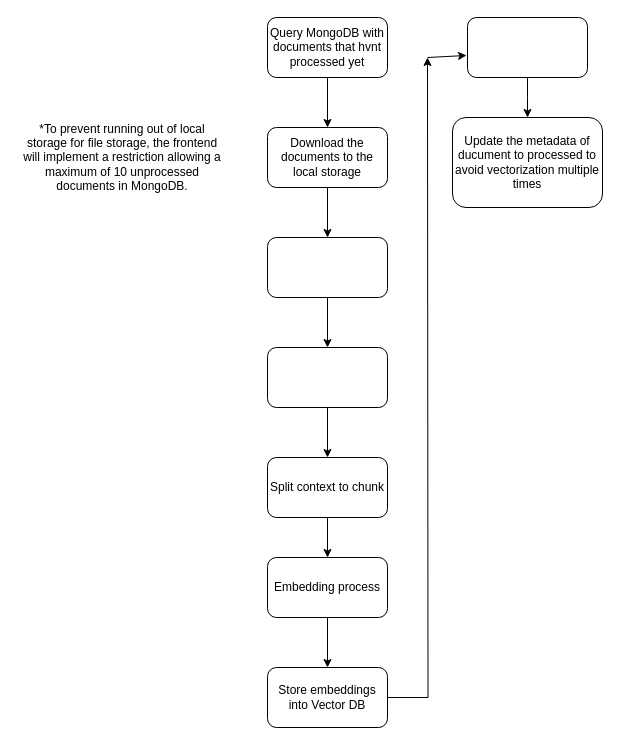
Some shapes in this 620 by 745 pixel diagram are drawn without their labels. Each missing label, with the box of its shape:
Delete documents in local storage: (466, 16, 588, 78)
Identify the document type: (266, 236, 388, 298)
Load doucments: (266, 346, 388, 408)
